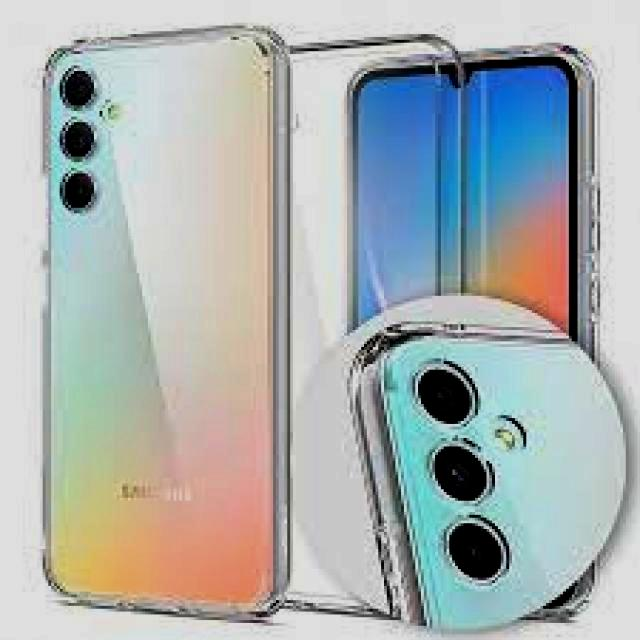lens: (55, 57, 101, 220)
phone: (39, 24, 288, 616)
